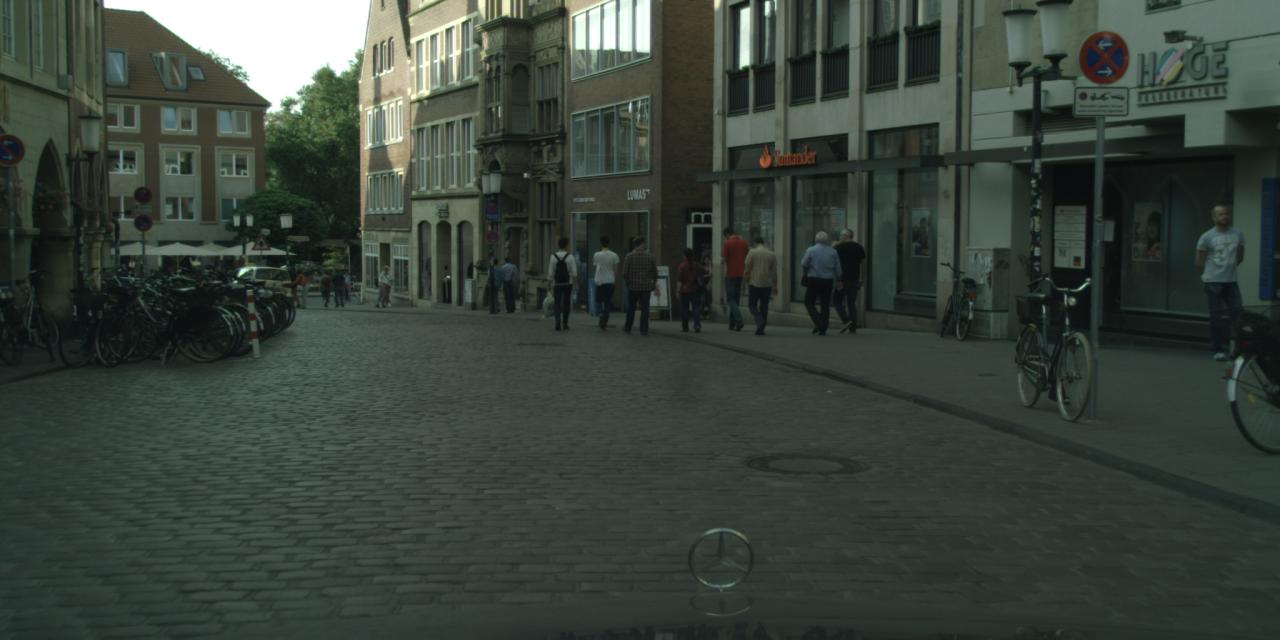ped: (1194, 205, 1257, 357), (826, 227, 868, 331), (710, 226, 751, 329), (800, 230, 840, 332), (617, 234, 657, 334), (739, 236, 778, 332), (543, 236, 581, 328), (584, 235, 622, 326), (672, 247, 706, 331), (692, 254, 718, 318), (497, 256, 519, 312), (482, 258, 504, 312), (377, 265, 393, 306), (284, 266, 300, 306), (330, 268, 346, 306), (377, 266, 392, 306), (292, 269, 307, 307), (318, 269, 332, 306), (342, 271, 349, 291)
